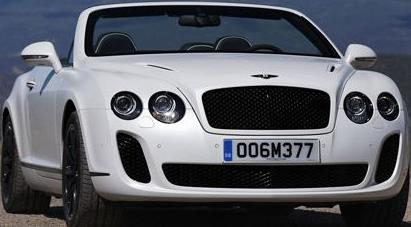front_view: (83, 69, 409, 203)
headlight: (104, 81, 193, 131)
